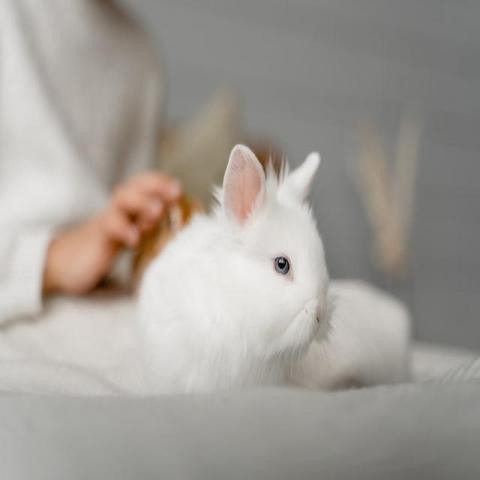small_animal: (130, 141, 414, 392)
